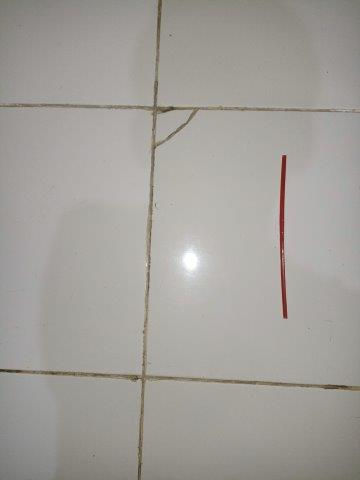sedotan: (279, 156, 288, 319)
